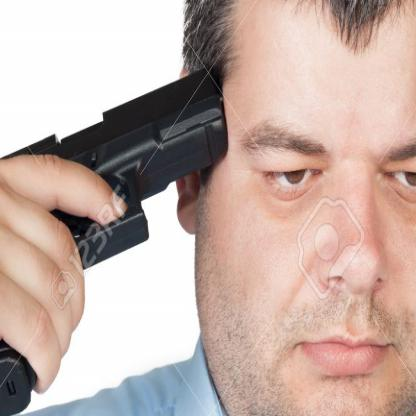gun: (0, 64, 229, 415)
